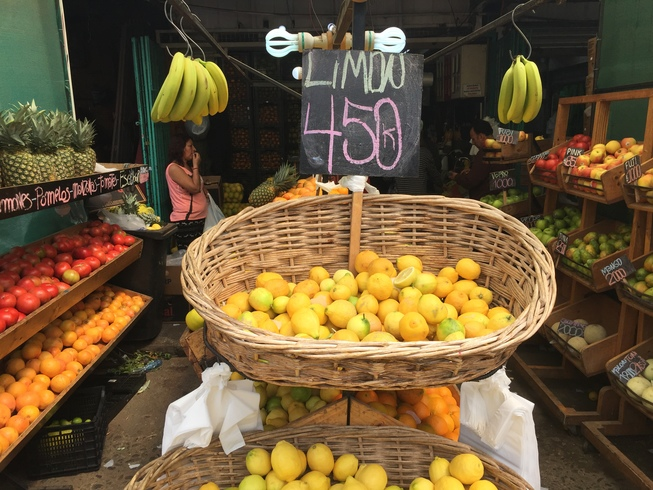precio: (295, 43, 420, 185), (606, 347, 653, 390), (596, 253, 637, 291), (484, 162, 521, 195), (556, 314, 593, 343), (622, 152, 645, 186), (497, 124, 525, 149), (564, 144, 585, 174), (552, 229, 568, 257)
